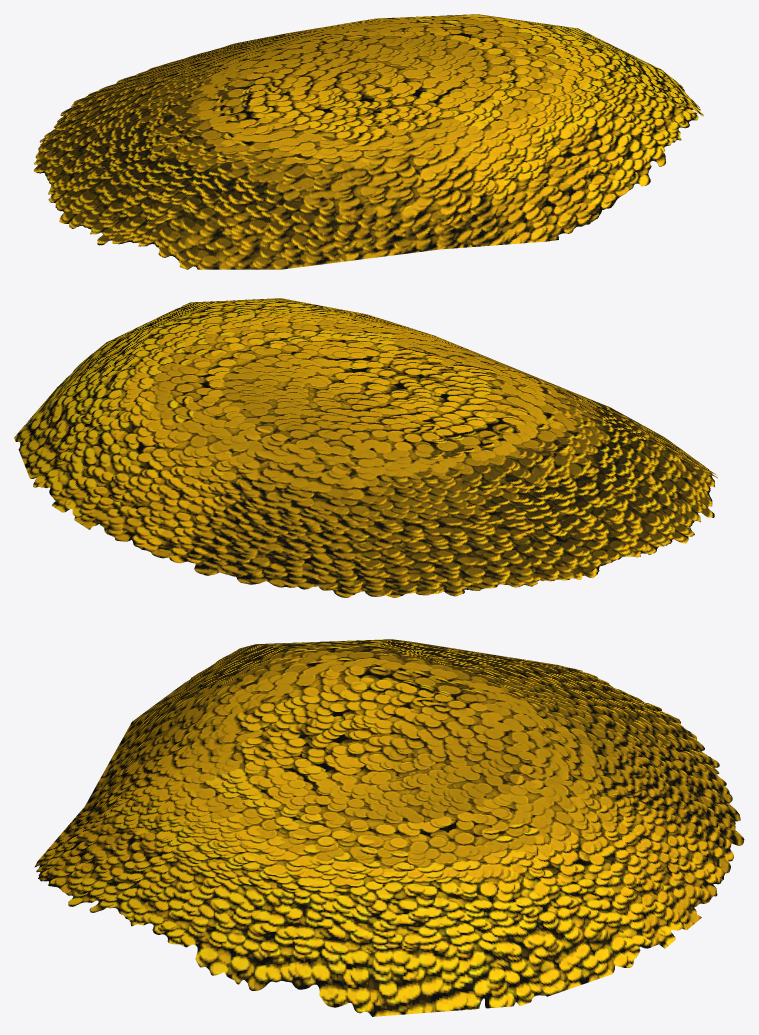
The model's file is INST_SM_GOLDPILE_MEDIUMF.obj.
3 views of the same model, one above another, from view 1: azimuth 30°, elevation 25°; view 2: azimuth 150°, elevation 25°; view 3: azimuth 270°, elevation 25° (orthographic). The views are drawn at different scales.
Visible parts, largest first — view 1: SM_GP_Top14; view 2: SM_GP_Top14; view 3: SM_GP_Top14.
Boxes of the visible parts, left/top/right/bottom form: SM_GP_Top14: left=33, top=14, right=703, bottom=269; SM_GP_Top14: left=14, top=298, right=717, bottom=597; SM_GP_Top14: left=34, top=639, right=744, bottom=1016.
Bounding box in the file's own units: 950 × 100 × 775.
